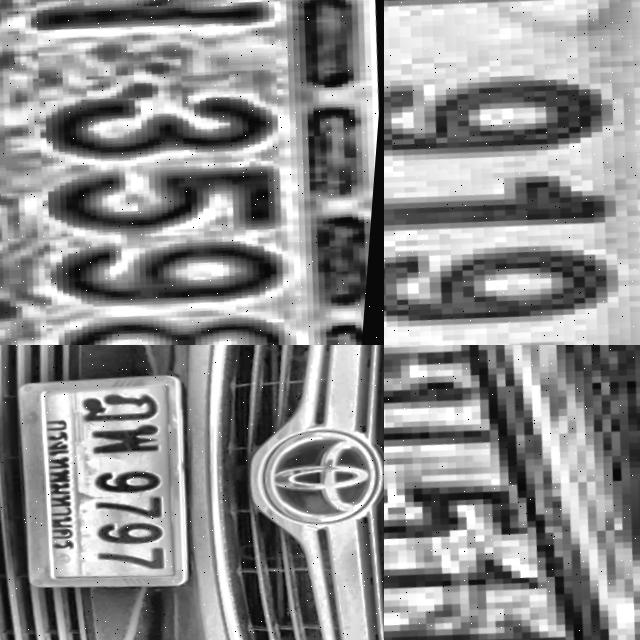license-plate: (0, 0, 384, 345), (384, 0, 640, 345), (384, 345, 640, 640), (13, 357, 215, 600)
